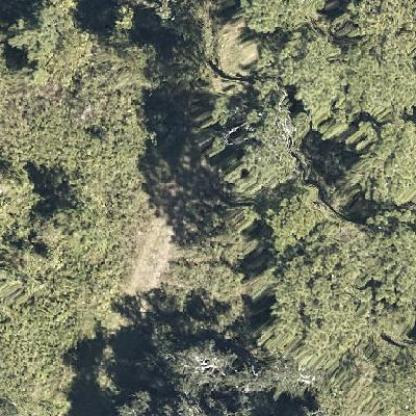tree-top: (262, 186, 378, 366), (200, 83, 306, 189), (8, 1, 90, 91), (340, 114, 415, 205), (0, 166, 49, 244), (232, 0, 334, 32)
